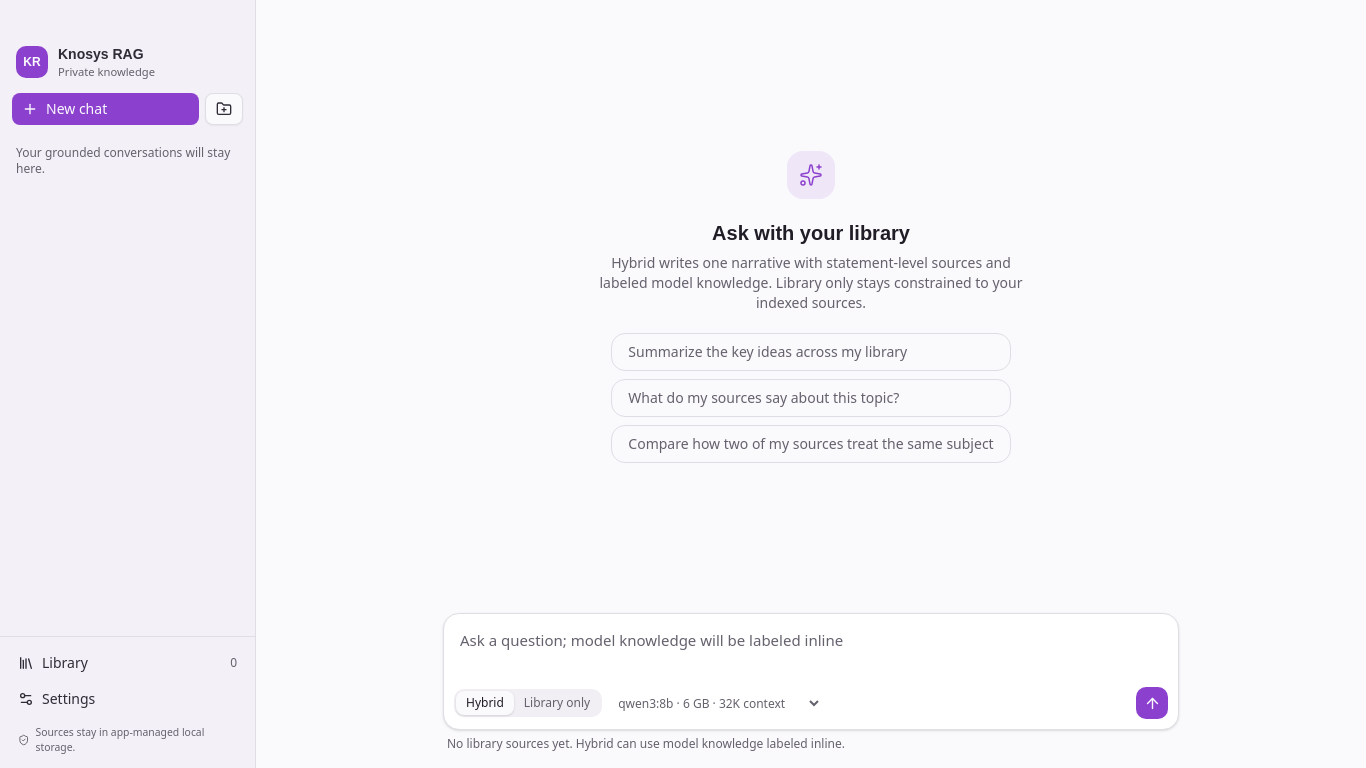
it: chat › requires a source when Library only is selected
This screenshot has width=1366, height=768.
Expected: the text box labelled "question" is enabled, [444,614,1178,681]
Step 1. Click the radio button labelled "Library only" → (557, 702), box [524,694,590,711]
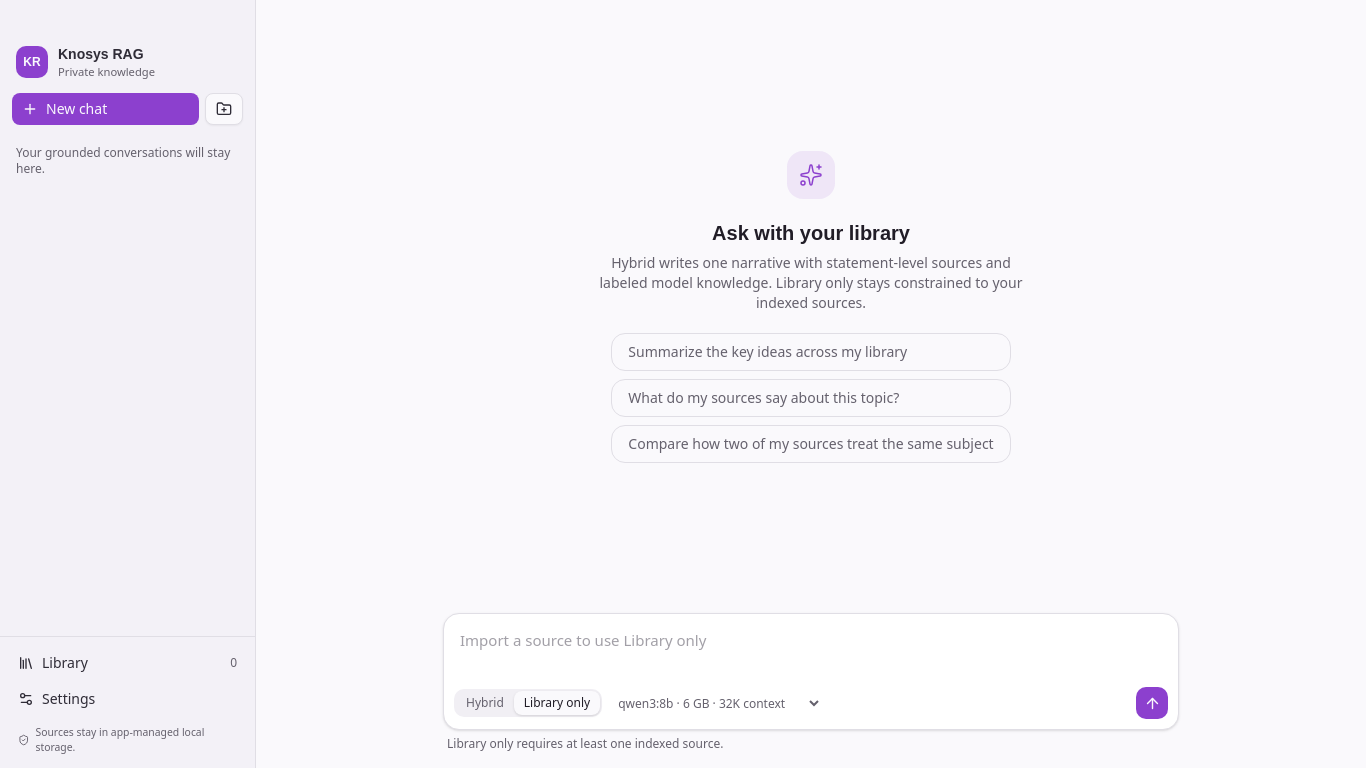
Expected: the button named "Send question" is disabled, [1136,687,1168,719]
Result: the text box named "Question" is disabled at [444,614,1178,681]
Result: the text "Library only requires at least one indexed source." is shown at [447,735,723,752]
